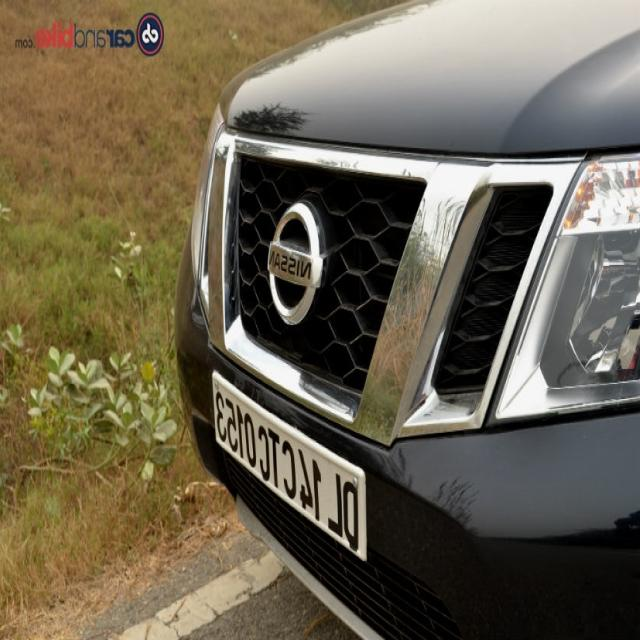license_plate: (210, 364, 369, 569)
